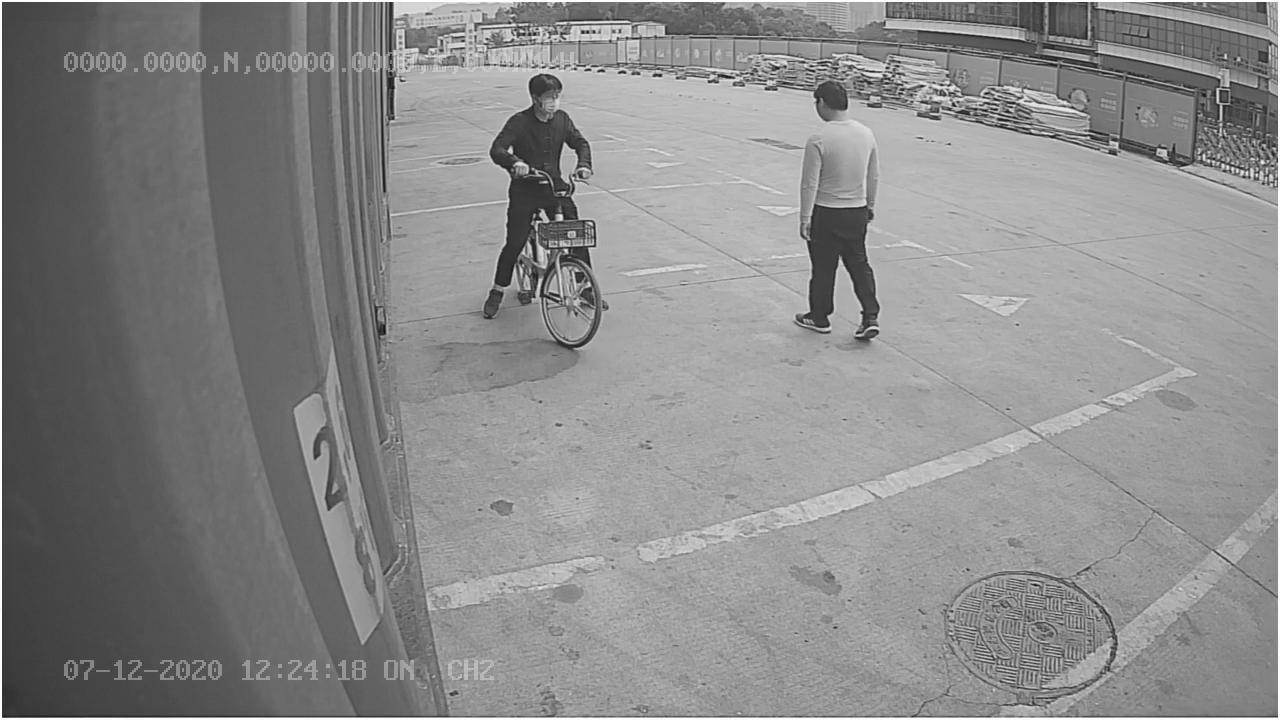person: (790, 78, 888, 347)
